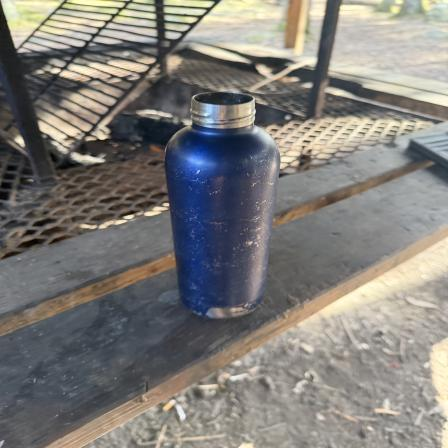blue_bottle: (166, 90, 280, 320)
